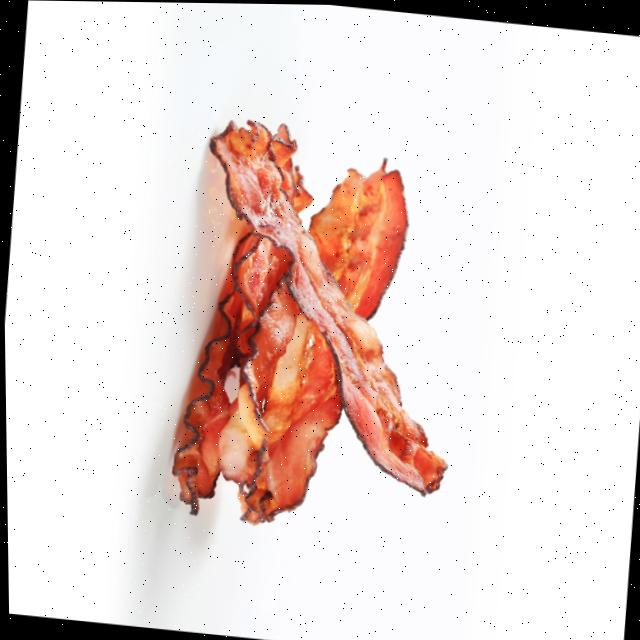Bacon: (209, 121, 443, 492), (170, 231, 287, 514), (307, 159, 406, 317)
